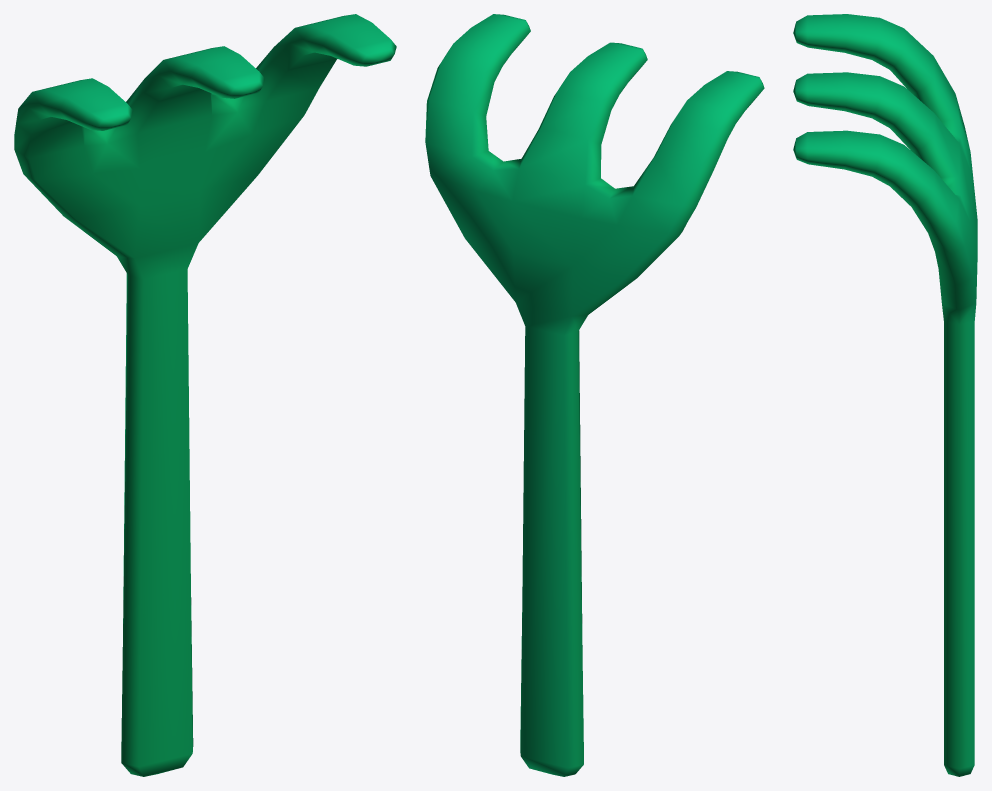
Rendered from baby_rake.glb.
The picture shows the model from 3 angles, left to right: view 1: azimuth 30°, elevation 25°; view 2: azimuth 150°, elevation 25°; view 3: azimuth 270°, elevation 25°; orthographic projection. The views are drawn at different scales.
Visible parts, largest first — view 1: baby_rake3; view 2: baby_rake3; view 3: baby_rake3.
Part boxes in pixels (x1=…): baby_rake3: x1=14, y1=14, x2=396, y2=776; baby_rake3: x1=425, y1=14, x2=764, y2=776; baby_rake3: x1=793, y1=14, x2=977, y2=776.
Bounding box in the file's own units: 0.248 × 0.55 × 0.1334.
1 material, 1 textured.
